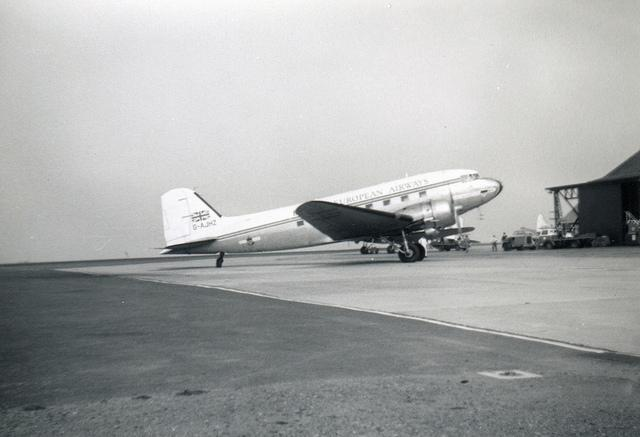car: (539, 234, 573, 249)
